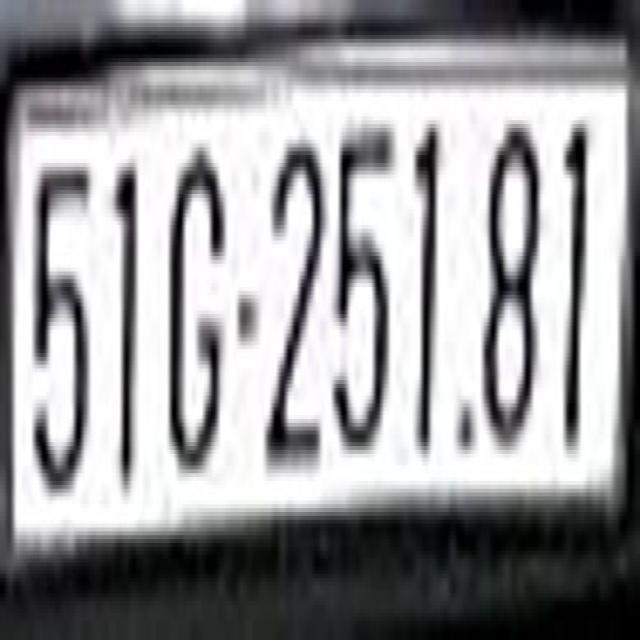1: (411, 89, 441, 442), (561, 108, 590, 450), (112, 155, 140, 469)
2: (266, 140, 320, 470)
5: (32, 143, 90, 470), (336, 124, 394, 438)
8: (482, 108, 540, 426)
G: (164, 132, 224, 454)
